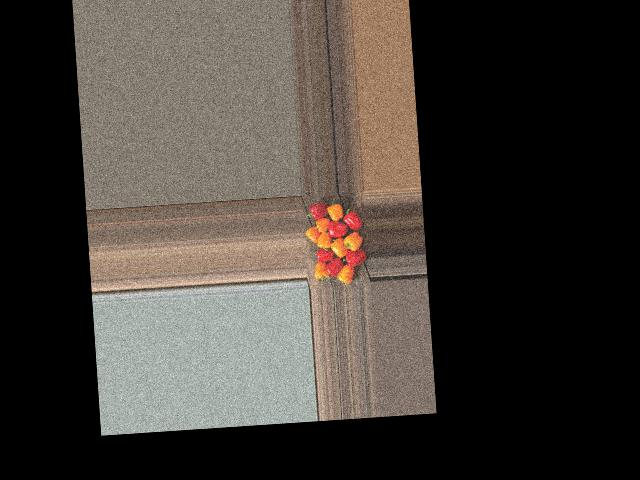bell_pepper: (336, 259, 358, 285)
